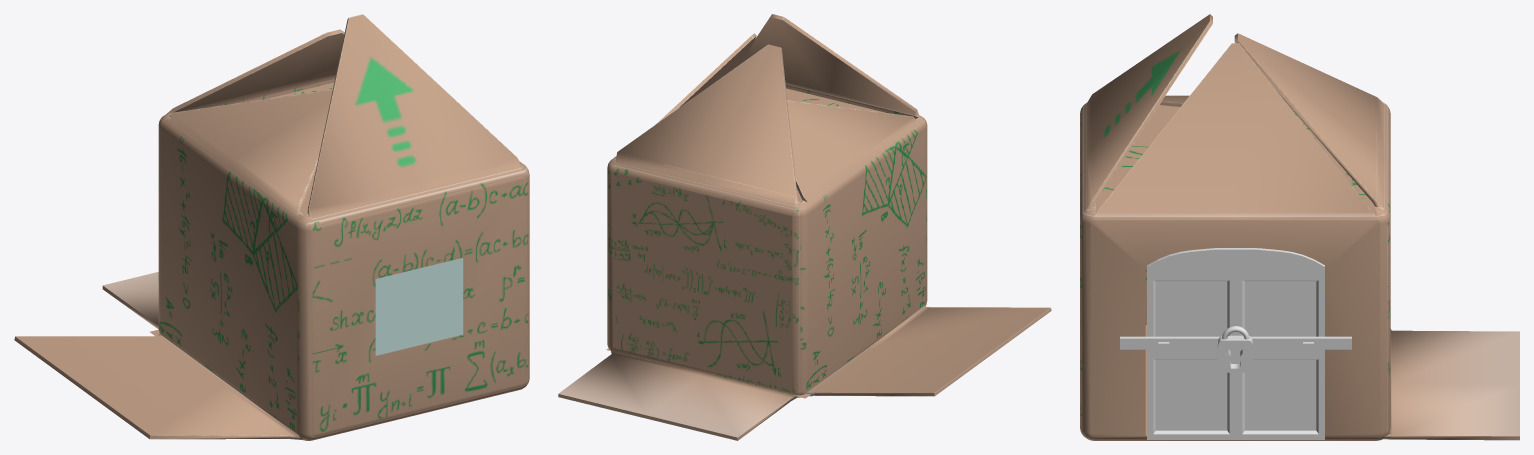
The model's file is huis chris lekker kom op.fbx.
The picture shows the model from 3 angles, left to right: view 1: azimuth 30°, elevation 25°; view 2: azimuth 150°, elevation 25°; view 3: azimuth 270°, elevation 25°; orthographic projection. The views are drawn at different scales.
Visible parts, largest first — view 1: Cube_4, Cube_2; view 2: Cube_2, Cube_4; view 3: Cube_2, Cube, Cube_4, Cube_1, Torus_1.
Boxes of the visible parts, box(x1,y1,x2,y2) form: Cube_4: box(160, 129, 526, 436); Cube_2: box(14, 14, 529, 440); Cube_2: box(558, 14, 1051, 440); Cube_4: box(808, 129, 925, 388); Cube_2: box(1080, 14, 1519, 440); Cube: box(1147, 248, 1324, 439); Cube_4: box(1080, 111, 1379, 435); Cube_1: box(1120, 336, 1351, 349); Torus_1: box(1217, 326, 1253, 372).
Bounding box in the file's own units: 1122 × 969 × 1045.
Materials: 1 (1 with a texture image).
